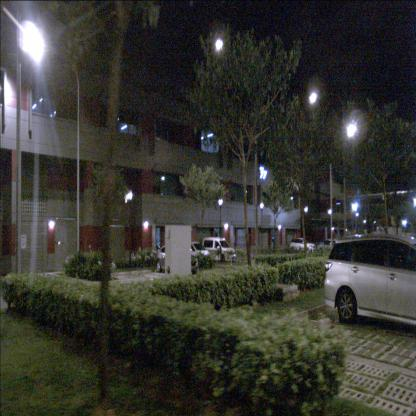human-pedestrian-adult: (384, 225, 388, 248)
vehicle-car: (324, 233, 416, 329), (154, 245, 197, 274), (202, 237, 236, 264), (176, 241, 210, 268), (289, 237, 317, 256), (316, 238, 340, 252)
